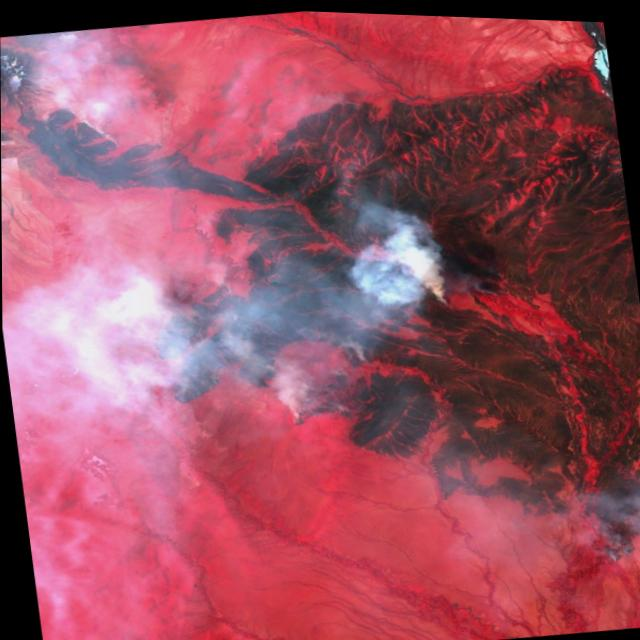fire: (143, 240, 474, 458), (36, 85, 177, 179), (576, 467, 640, 581)
